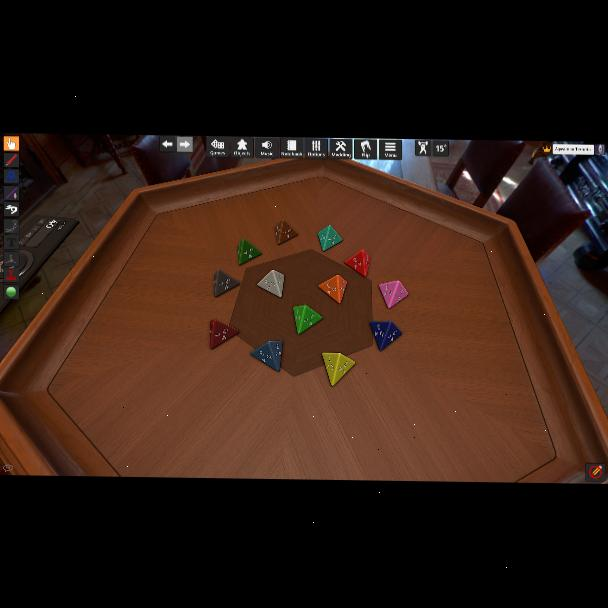d4: (322, 351, 352, 387), (251, 340, 283, 372), (370, 320, 400, 351), (208, 319, 238, 350), (380, 280, 408, 310), (257, 269, 285, 299), (319, 274, 345, 304), (294, 305, 320, 334), (214, 269, 240, 298), (344, 249, 370, 278), (237, 238, 261, 265), (318, 225, 340, 251), (274, 219, 296, 245)
